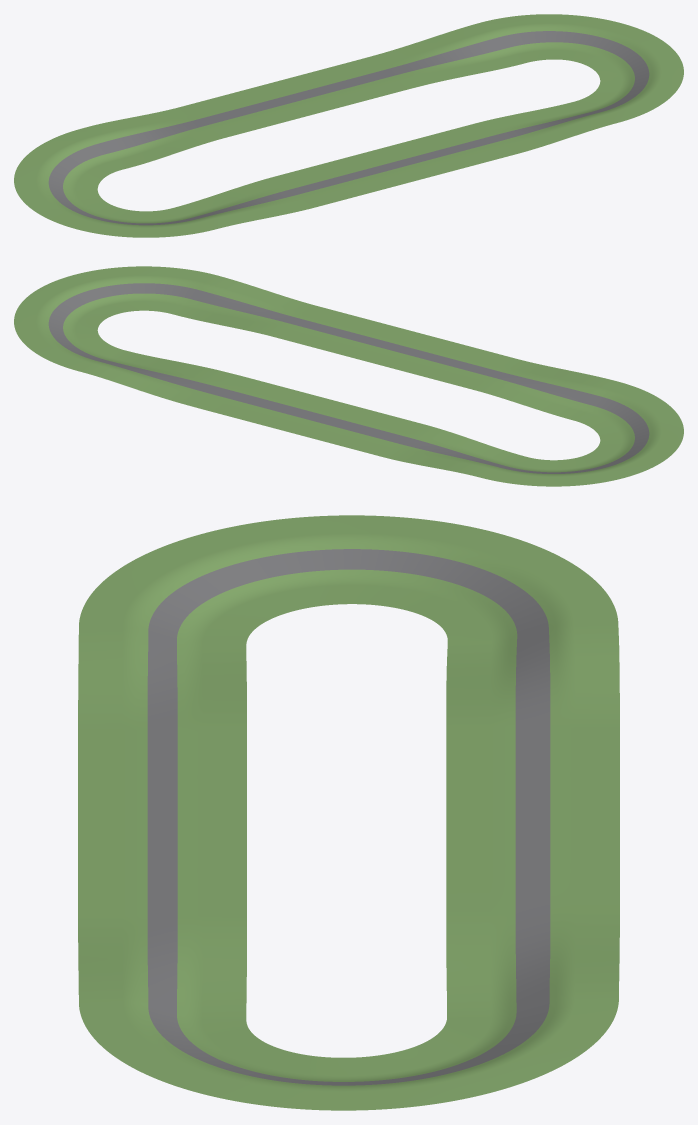
File: road_mesh.glb
The picture shows the model from 3 angles, top to bottom: view 1: azimuth 30°, elevation 25°; view 2: azimuth 150°, elevation 25°; view 3: azimuth 270°, elevation 25°; orthographic projection. The views are drawn at different scales.
Visible parts, largest first — view 1: road_01, road_06, road_00, road_07, road_03, road_04, road_02, road_05; view 2: road_02, road_05, road_03, road_04, road_07, road_00, road_01, road_06; view 3: road_06, road_05, road_00, road_07, road_03, road_04, road_01, road_02.
Part boxes in pixels (box(x1,y1,x2,y2)): road_01: box(444, 14, 665, 71); road_06: box(14, 120, 161, 209); road_00: box(281, 34, 485, 111); road_07: box(119, 80, 323, 157); road_03: box(373, 110, 579, 180); road_04: box(211, 150, 414, 220); road_02: box(538, 43, 683, 134); road_05: box(33, 196, 252, 237); road_02: box(33, 266, 252, 322); road_05: box(538, 372, 683, 459); road_03: box(211, 286, 416, 363); road_04: box(375, 332, 579, 409); road_07: box(281, 398, 486, 469); road_00: box(119, 358, 323, 429); road_01: box(14, 293, 161, 383); road_06: box(444, 444, 665, 486); road_06: box(346, 515, 619, 674); road_05: box(78, 515, 347, 677); road_00: box(446, 819, 619, 978); road_07: box(446, 661, 619, 820); road_03: box(78, 822, 246, 982); road_04: box(78, 664, 246, 822); road_01: box(346, 965, 619, 1110); road_02: box(78, 969, 347, 1110).
Bounding box in the file's own units: 632 × 20.3 × 234.
